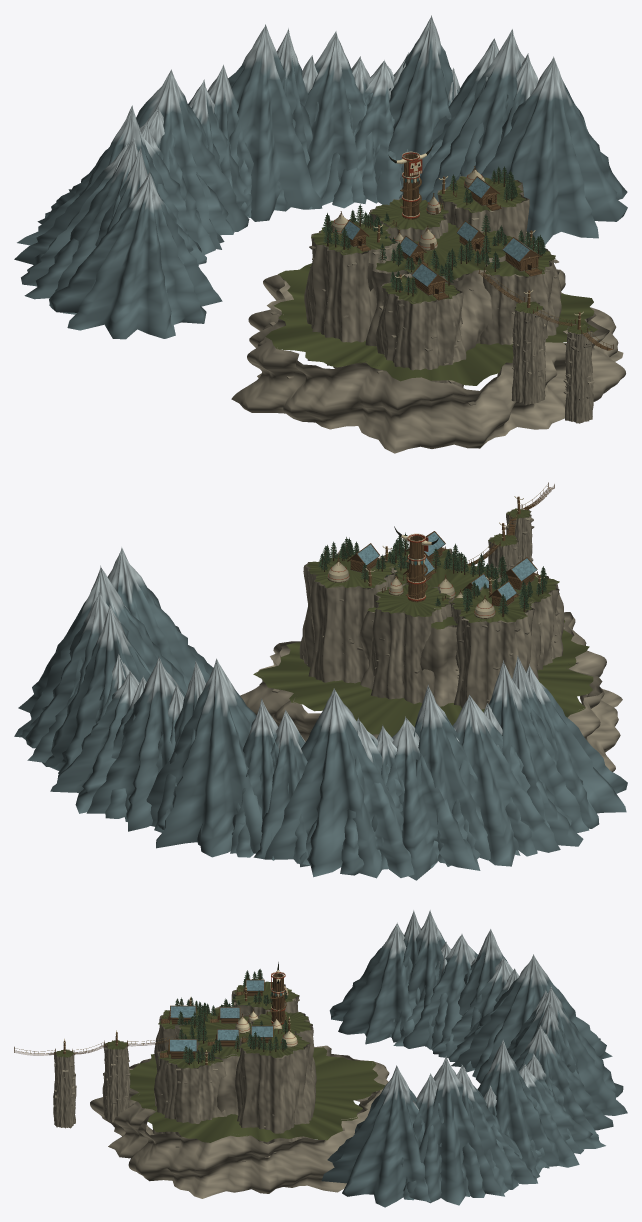
The model's file is horncrest.glb.
3 views of the same model, one above another, from view 1: azimuth 30°, elevation 25°; view 2: azimuth 150°, elevation 25°; view 3: azimuth 270°, elevation 25° (orthographic). The views are drawn at different scales.
Visible parts, largest first — view 1: Horncrest mountain, Horncrest rock, Horncrest ground, Horncrest wood, Horncrest pine, Horncrest roof, Horncrest ivory; view 2: Horncrest mountain, Horncrest rock, Horncrest ground, Horncrest wood, Horncrest pine, Horncrest ivory, Horncrest roof; view 3: Horncrest mountain, Horncrest rock, Horncrest ground, Horncrest wood, Horncrest pine, Horncrest roof, Horncrest ivory.
Boxes of the visible parts, x1,y1,x2,y2 form: Horncrest mountain: (14, 15, 627, 339); Horncrest rock: (231, 176, 625, 453); Horncrest ground: (265, 176, 597, 385); Horncrest wood: (324, 154, 613, 350); Horncrest pine: (322, 166, 546, 294); Horncrest roof: (341, 177, 532, 286); Horncrest ivory: (331, 151, 583, 326); Horncrest mountain: (14, 547, 627, 880); Horncrest rock: (240, 509, 622, 771); Horncrest ground: (253, 508, 593, 736); Horncrest wood: (321, 482, 554, 618); Horncrest pine: (318, 532, 547, 618); Horncrest ivory: (327, 496, 544, 617); Horncrest roof: (357, 532, 536, 600); Horncrest mountain: (321, 910, 627, 1207); Horncrest rock: (53, 982, 389, 1198); Horncrest ground: (56, 981, 385, 1142); Horncrest wood: (14, 973, 297, 1065); Horncrest pine: (175, 969, 288, 1064); Horncrest roof: (170, 980, 272, 1051); Horncrest ivory: (63, 970, 297, 1062).
Bounding box in the file's own units: 285 × 102 × 342.
